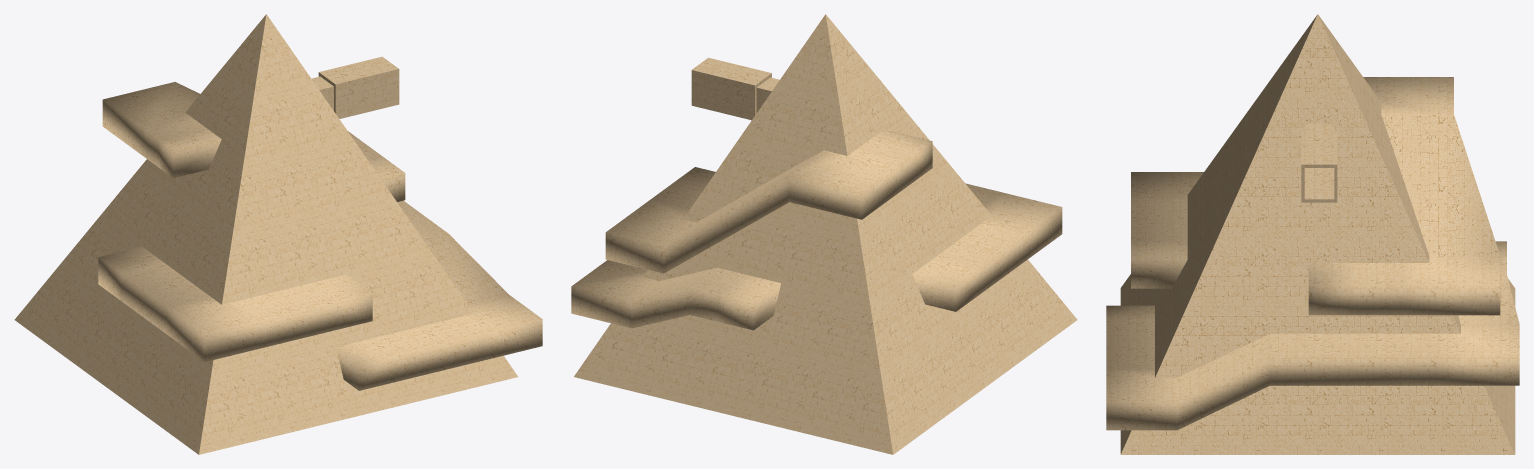
3 renders of one model, left to right at view 1: azimuth 30°, elevation 25°; view 2: azimuth 150°, elevation 25°; view 3: azimuth 270°, elevation 25°, orthographic. The views are drawn at different scales.
Visible parts, largest first — view 1: mainpramid; view 2: mainpramid; view 3: mainpramid.
Part boxes in pixels (bbox=[...]): mainpramid: bbox=[14, 14, 542, 454]; mainpramid: bbox=[571, 14, 1077, 454]; mainpramid: bbox=[1106, 14, 1519, 454].
Bounding box in the file's own units: 10537 × 9995 × 10478.
